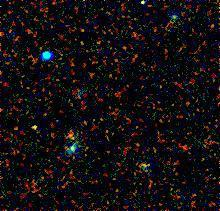star: (20, 114, 50, 144)
